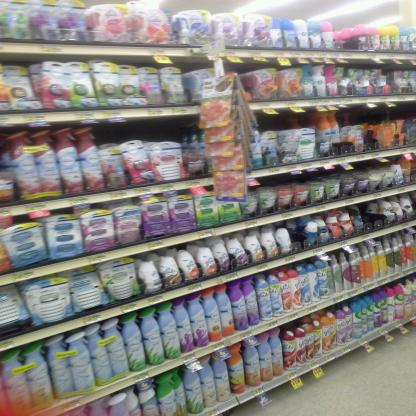Void: (101, 124, 184, 132), (262, 116, 300, 125)
